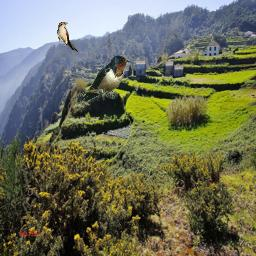Cuckoo: (57, 22, 78, 53)
Swallow: (72, 55, 130, 101)
